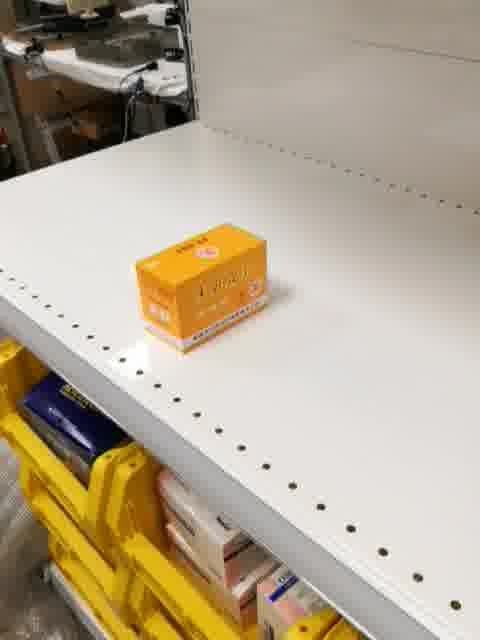jasminetea: (136, 222, 272, 355)
